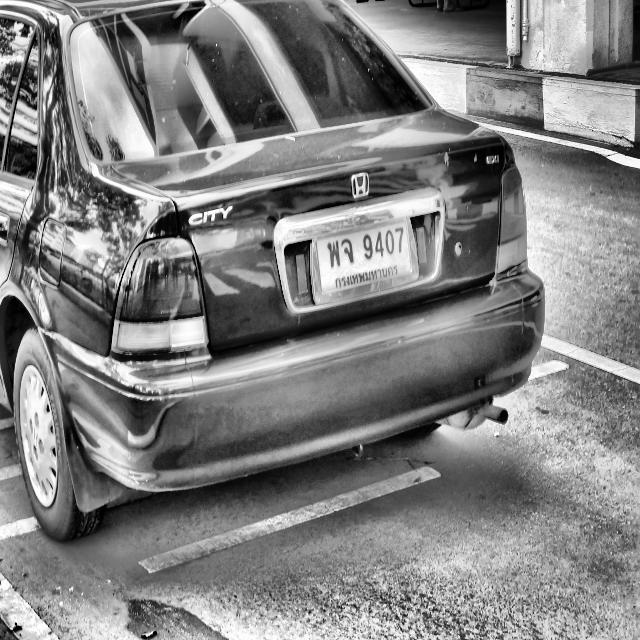license-plate: (308, 216, 420, 310)
